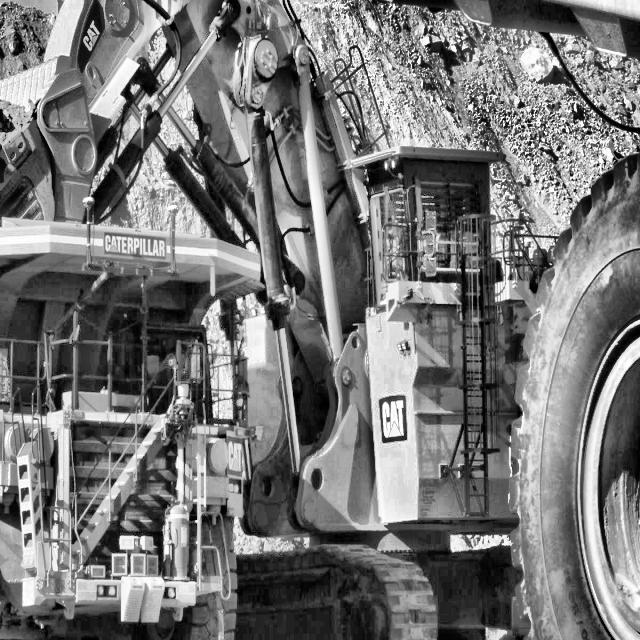dump_truck: (319, 0, 640, 640), (0, 209, 276, 640)
excavator: (0, 0, 610, 640)
